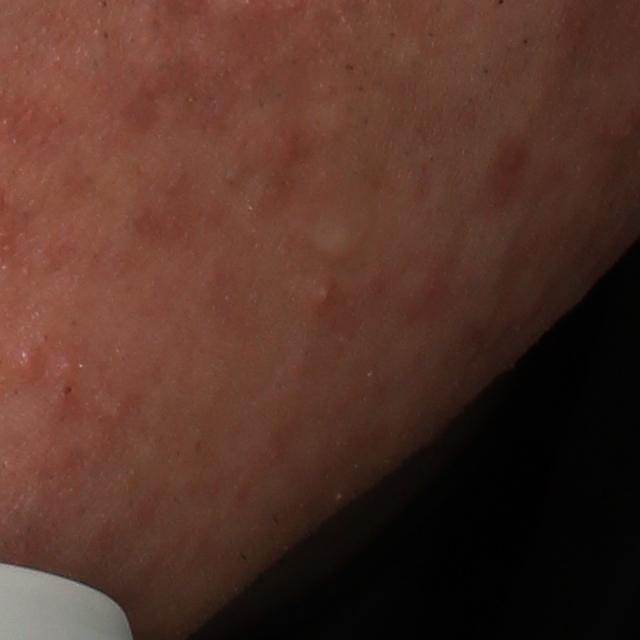comedo: (59, 379, 79, 399)
hypertrophic_scar: (294, 207, 372, 264)
papule: (11, 346, 51, 382)
